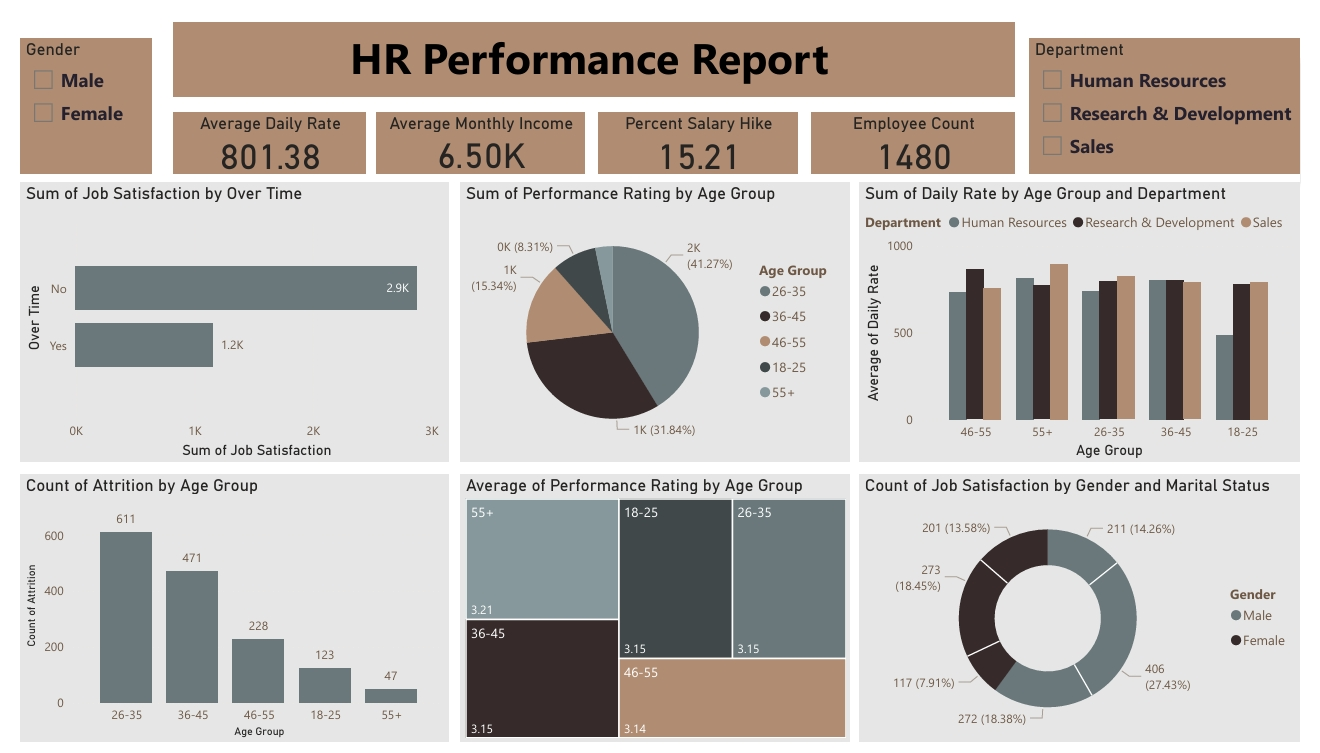

What the dashboard file says about the page in this screenshot:
{"tool":"powerbi","page":{"name":"HR Dashboard","canvas":[1280,720],"ordinal":0},"visuals":[{"type":"clusteredColumnChart","fields":{"Category":["HR_Analytics.AgeGroup"],"Y":["CountNonNull(HR_Analytics.Attrition)"]},"box":[0,452.4,429.2,267.8],"z":0},{"type":"barChart","fields":{"Category":["HR_Analytics.Over Time"],"Y":["Sum(HR_Analytics.Job Satisfaction)"]},"box":[0,160.2,429.2,280],"z":1000},{"type":"pieChart","fields":{"Y":["Sum(HR_Analytics.PerformanceRating)"],"Category":["HR_Analytics.AgeGroup"]},"box":[440.2,160.2,390.1,280],"z":2000},{"type":"card","title":"Average Daily Rate","fields":{"Values":["Avg(HR_Analytics.DailyRate)"]},"box":[152.9,90.5,193.2,61.1],"z":3000},{"type":"card","title":"Percent Salary Hike","fields":{"Values":["Sum(HR_Analytics.Percent Salary Hike)"]},"box":[578.4,90.5,199.3,61.1],"z":4000},{"type":"card","title":"Average Monthly Income","fields":{"Values":["Avg(HR_Analytics.MonthlyIncome)"]},"box":[355.8,90.5,209.1,61.1],"z":5000},{"type":"card","title":"Employee Count","fields":{"Values":["CountNonNull(HR_Analytics.EmployeeCount)"]},"box":[791.2,90.5,204.2,61.1],"z":6000},{"type":"treemap","fields":{"Group":["HR_Analytics.AgeGroup"],"Values":["Avg(HR_Analytics.PerformanceRating)"]},"box":[440.2,452.4,390.1,267.8],"z":7000},{"type":"donutChart","fields":{"Category":["HR_Analytics.Gender"],"Y":["CountNonNull(HR_Analytics.JobSatisfaction)"],"Series":["HR_Analytics.Marital Status"]},"box":[838.9,452.4,441.4,267.8],"z":8000},{"type":"clusteredColumnChart","title":"Sum of Daily Rate by Age Group and Department","fields":{"Category":["HR_Analytics.AgeGroup"],"Y":["Avg(HR_Analytics.DailyRate)"],"Series":["HR_Analytics.Department"]},"box":[838.9,160.2,441.4,280],"z":9000},{"type":"slicer","title":"Gender","fields":{"Values":["HR_Analytics.Gender"]},"box":[0,15.9,132.1,135.7],"z":10000},{"type":"slicer","title":"Department","fields":{"Values":["HR_Analytics.Department"]},"box":[1008.8,15.9,271.5,135.7],"z":11000},{"type":"textbox","box":[152.9,0,842.5,74.6],"z":12000}]}

Visuals, with their boxes in screenshot pixels (x1, y1, x2, y2), scaled from the page's 1280x720 canvas onto the 1320x753 screenshot:
clusteredColumnChart - HR_Analytics.AgeGroup x CountNonNull(HR_Analytics.Attrition): l=0, t=473, r=443, b=752
barChart - HR_Analytics.Over Time x Sum(HR_Analytics.Job Satisfaction): l=0, t=168, r=443, b=460
pieChart - Sum(HR_Analytics.PerformanceRating) x HR_Analytics.AgeGroup: l=454, t=168, r=856, b=460
"Average Daily Rate" card: l=158, t=95, r=357, b=159
"Percent Salary Hike" card: l=596, t=95, r=802, b=159
"Average Monthly Income" card: l=367, t=95, r=583, b=159
"Employee Count" card: l=816, t=95, r=1027, b=159
treemap - HR_Analytics.AgeGroup x Avg(HR_Analytics.PerformanceRating): l=454, t=473, r=856, b=752
donutChart - HR_Analytics.Gender x CountNonNull(HR_Analytics.JobSatisfaction): l=865, t=473, r=1319, b=752
"Sum of Daily Rate by Age Group and Department" clusteredColumnChart: l=865, t=168, r=1319, b=460
"Gender" slicer: l=0, t=17, r=136, b=159
"Department" slicer: l=1040, t=17, r=1319, b=159
textbox: l=158, t=0, r=1027, b=78
